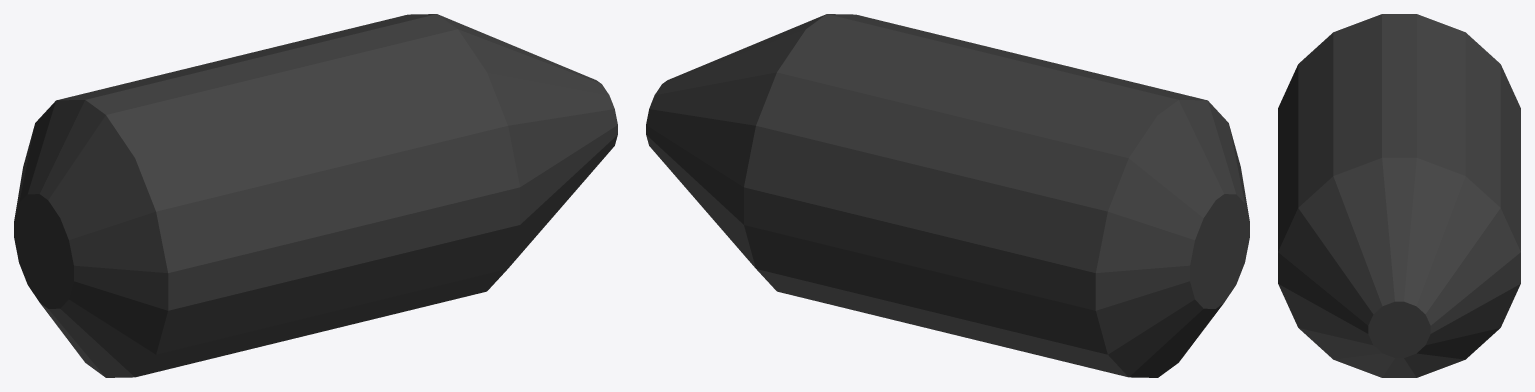
The model's file is prj_rocket.glb.
3 renders of one model, left to right at view 1: azimuth 30°, elevation 25°; view 2: azimuth 150°, elevation 25°; view 3: azimuth 270°, elevation 25°, orthographic. The views are drawn at different scales.
Parts seen in each view (by area): view 1: Cube; view 2: Cube; view 3: Cube.
Part boxes in pixels (<box>): Cube: <box>14,14,617,377</box>; Cube: <box>646,14,1249,377</box>; Cube: <box>1278,14,1520,377</box>.
Bounding box in the file's own units: 0.0822 × 0.0372 × 0.0372.
Materials: 1 (1 with a texture image).
